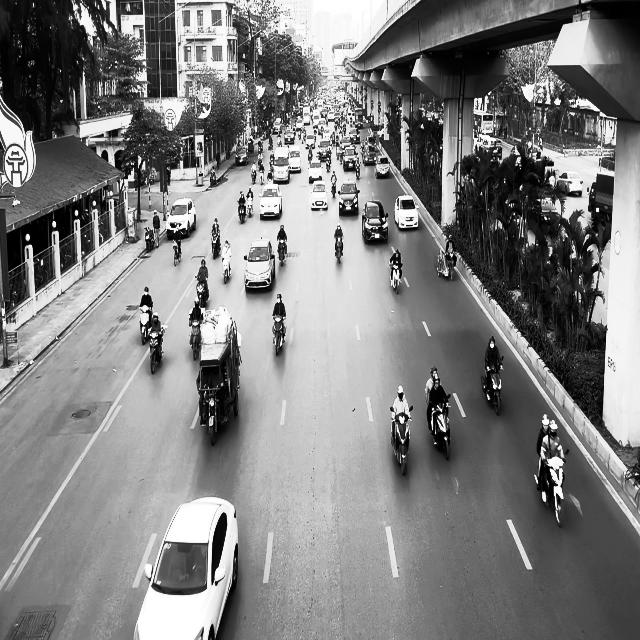car: (133, 496, 239, 639), (243, 237, 276, 292), (166, 198, 196, 240), (362, 200, 388, 244), (394, 194, 419, 230), (259, 184, 282, 218), (338, 180, 360, 215), (557, 171, 583, 196), (310, 180, 328, 210), (342, 146, 359, 171), (374, 154, 390, 178), (288, 146, 301, 172), (308, 160, 322, 183), (235, 146, 249, 166)
motorbike: (534, 448, 569, 526), (428, 393, 451, 460), (390, 405, 412, 475), (481, 356, 504, 416), (149, 325, 167, 374), (188, 312, 203, 360), (272, 315, 286, 355), (139, 305, 151, 345), (389, 260, 402, 294), (195, 276, 208, 308), (334, 236, 344, 264), (172, 238, 182, 266), (277, 239, 287, 266), (222, 254, 231, 283), (144, 226, 154, 252), (211, 232, 220, 259), (238, 200, 246, 223), (246, 195, 253, 218), (331, 176, 336, 197)
truck: (195, 305, 242, 446)
